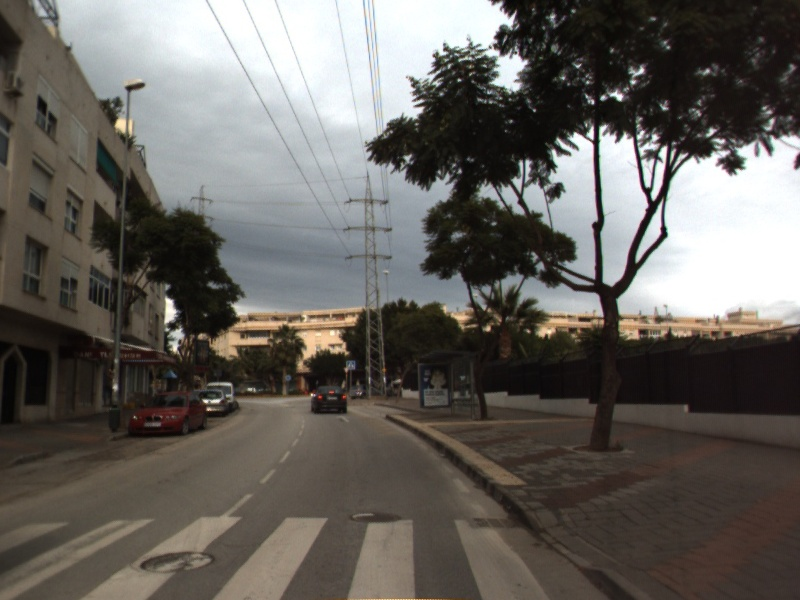STRAIGHT: (334, 413, 352, 424)
